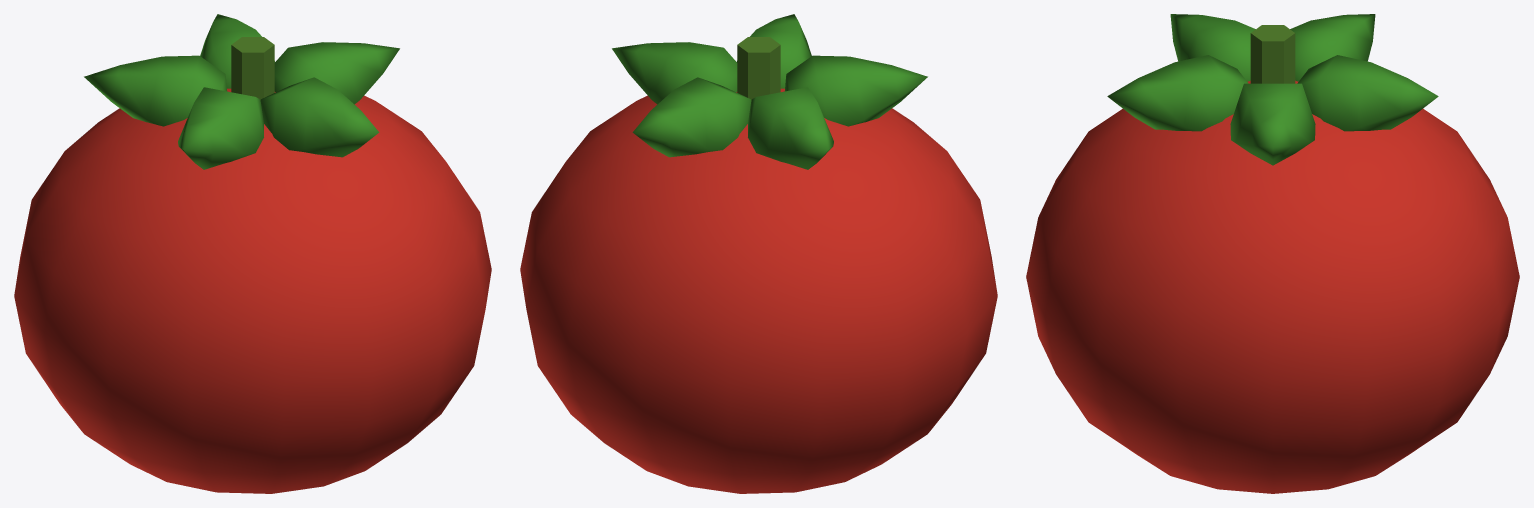
Rendered from tomato.glb.
3 renders of one model, left to right at view 1: azimuth 30°, elevation 25°; view 2: azimuth 150°, elevation 25°; view 3: azimuth 270°, elevation 25°, orthographic. The views are drawn at different scales.
Visible parts, largest first — view 1: tomato; view 2: tomato; view 3: tomato.
Boxes of the visible parts, <box> form: tomato: <box>14,14,491,493</box>; tomato: <box>520,14,997,493</box>; tomato: <box>1026,14,1519,493</box>.
Size of the model in its own units: 0.34 by 0.3315 by 0.34.
